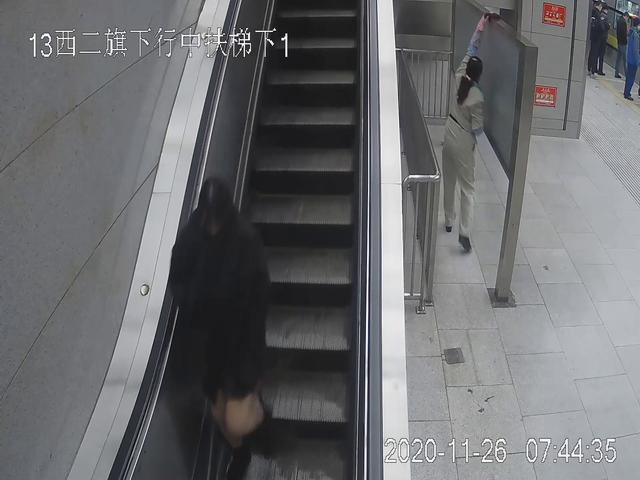person: (170, 182, 271, 480), (440, 14, 487, 252), (589, 3, 607, 75), (625, 18, 640, 100)
